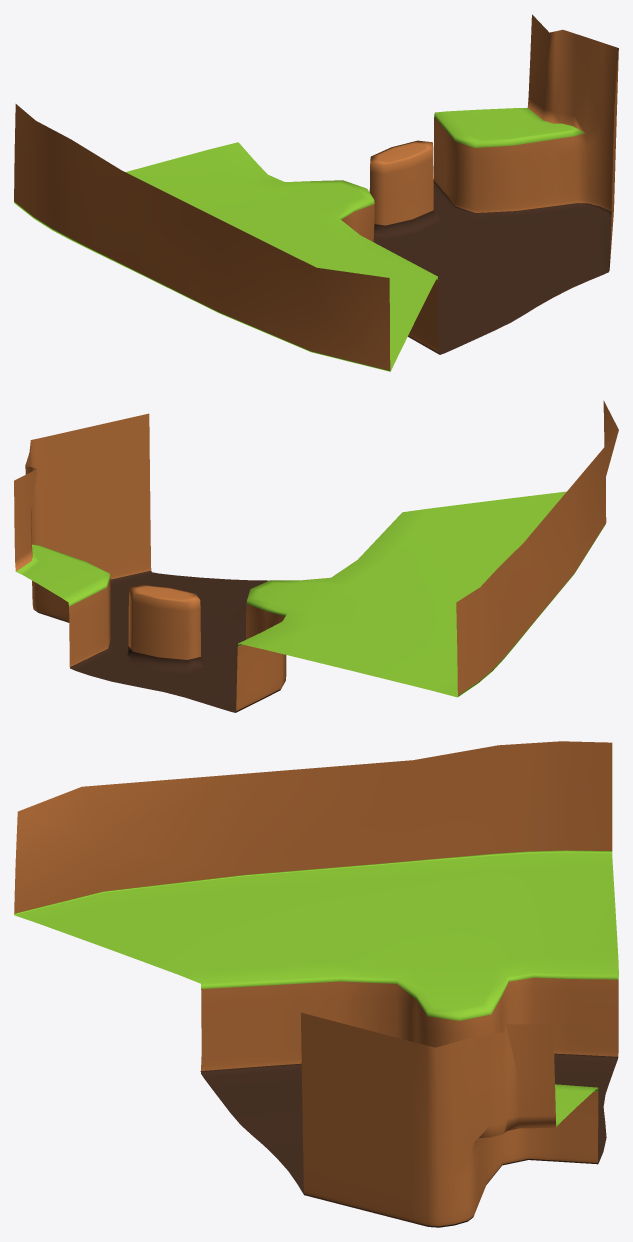
The picture shows the model from 3 angles, top to bottom: view 1: azimuth 30°, elevation 25°; view 2: azimuth 150°, elevation 25°; view 3: azimuth 270°, elevation 25°; orthographic projection. The views are drawn at different scales.
Parts seen in each view (by area): view 1: pCube3; view 2: pCube3; view 3: pCube3.
Part boxes in pixels (x1=…): pCube3: x1=14, y1=14, x2=618, y2=371; pCube3: x1=14, y1=400, x2=618, y2=712; pCube3: x1=14, y1=741, x2=618, y2=1227.
Bounding box in the file's own units: 390 × 127 × 344.
Materials: 1 (1 with a texture image).
